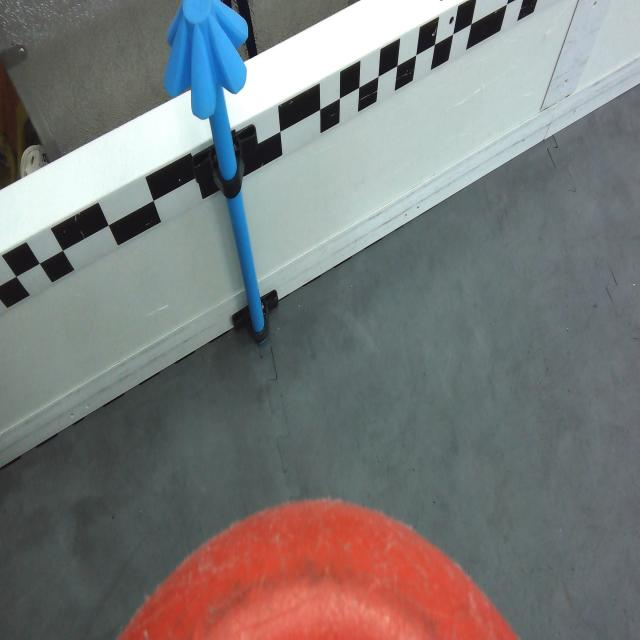zblue-Stake-Head: (166, 0, 250, 121)
